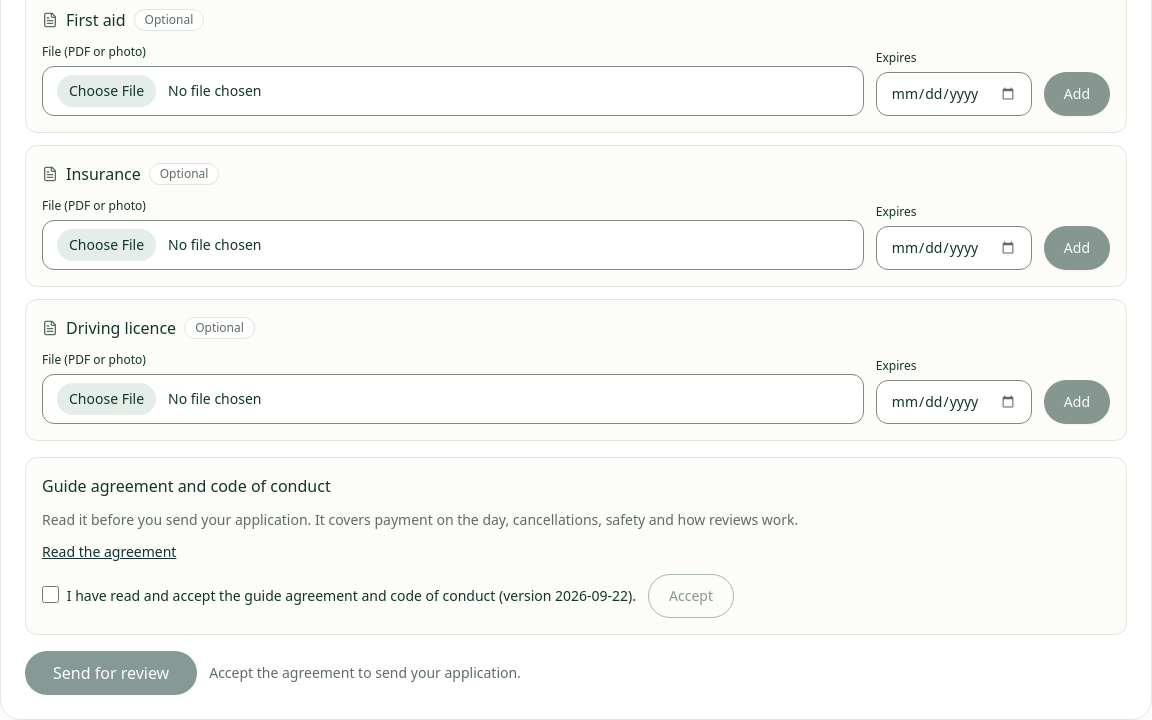
Test: trust and safety for guides › holds the application until the agreement is accepted
(page scrolled)
Expected: the button "Send for review" is disabled, [25,651,197,695]
Expected: the text "Accept the agreement to send your application." is shown, [209,663,521,683]
Click the checkbox labelled "I have read and accept". click: (50, 595)
box: [42,586,59,603]
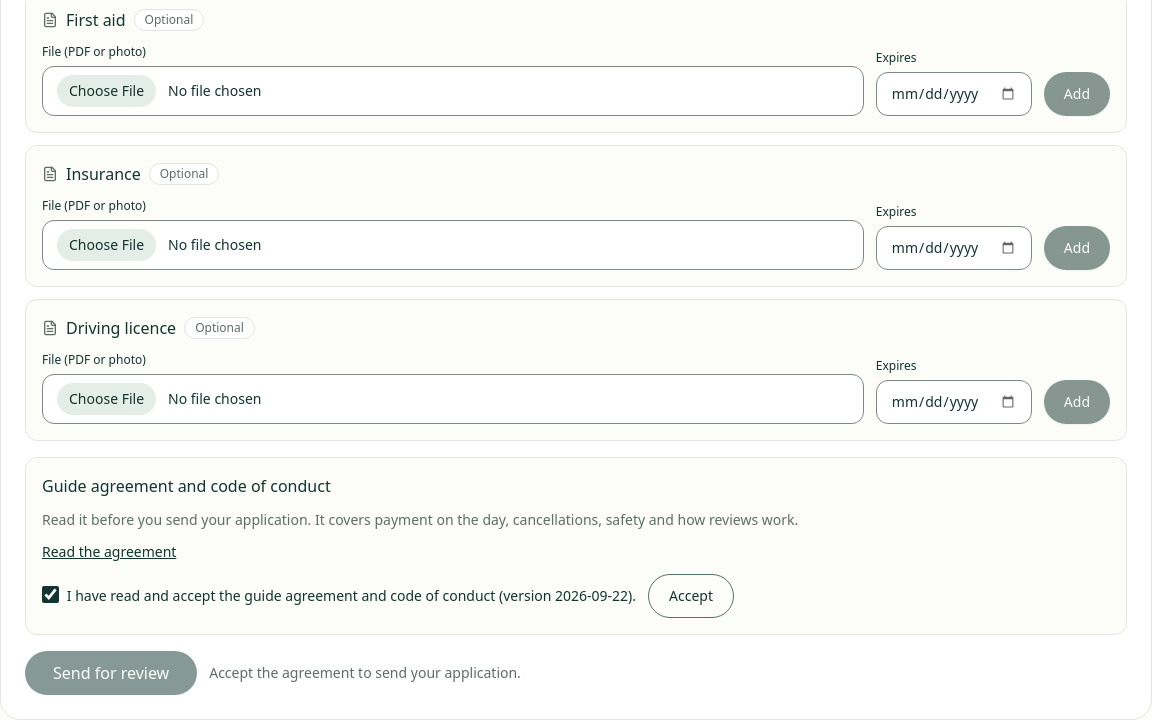
Click the button "Accept". click: (691, 596)
box: [648,574,734,618]
(page scrolled)
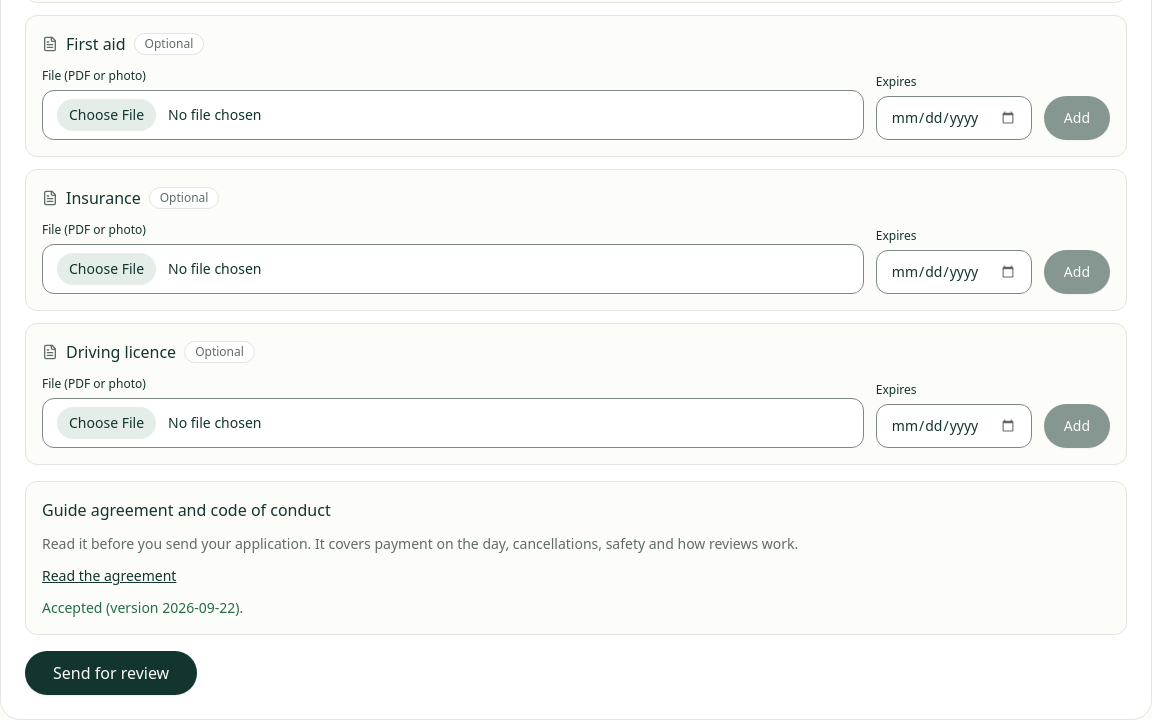
Expected: the button "Send for review" is enabled, [25,651,197,695]
